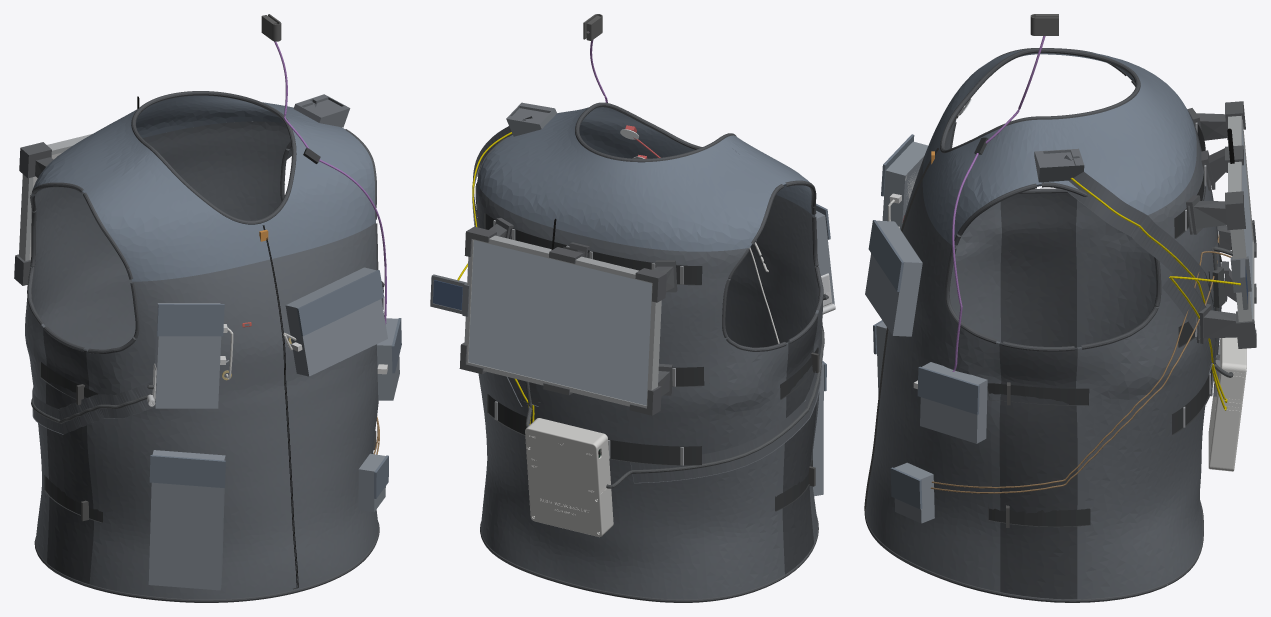
File: assembly.glb
3 views of the same model, side by side, from view 1: azimuth 30°, elevation 25°; view 2: azimuth 150°, elevation 25°; view 3: azimuth 270°, elevation 25° (orthographic). The views are drawn at different scales.
Parts seen in each view (by area): view 1: vest/vest_FRONT_R, vest/vest_FRONT_L, vest/vest_BACK_C, vest/vest_YOKE_FR, vest/vest_YOKE_FL, vest/vest_YOKE_B, vest/pocket_phone, vest/vest_SIDE_R, vest/pocket_C_board, vest/pocket_chest_pod, vest/vest_BACK_SR, vest/tunnel_J6_back_to_chest (+18 smaller); view 2: vest/vest_BACK_C, vest/vest_YOKE_B, panel_glass, vest/vest_BACK_SR, vest/vest_FRONT_R, back_pod_lid, vest/vest_SIDE_R, panel, vest/tunnel_J6_back_to_chest, vest/vest_YOKE_FL, vest/webbing_row_C, back_pod_base (+20 smaller); view 3: vest/vest_FRONT_L, vest/vest_BACK_SL, vest/vest_SIDE_L, vest/vest_YOKE_B, vest/vest_SIDE_R, vest/vest_BACK_C, vest/vest_BACK_SR, vest/vest_YOKE_FL, vest/vest_FRONT_R, vest/tunnel_ref2, vest/pocket_C_board, back_pod_base (+32 smaller).
Boxes of the visible parts, left/top/right/bottom form: vest/vest_FRONT_R: left=86, top=260, right=295, bottom=599; vest/vest_FRONT_L: left=268, top=222, right=383, bottom=589; vest/vest_BACK_C: left=36, top=121, right=268, bottom=349; vest/vest_YOKE_FR: left=84, top=147, right=268, bottom=281; vest/vest_YOKE_FL: left=260, top=116, right=375, bottom=259; vest/vest_YOKE_B: left=32, top=95, right=343, bottom=192; vest/pocket_phone: left=148, top=450, right=225, bottom=590; vest/vest_SIDE_R: left=43, top=327, right=93, bottom=584; vest/pocket_C_board: left=285, top=267, right=387, bottom=376; vest/pocket_chest_pod: left=154, top=303, right=221, bottom=408; vest/vest_BACK_SR: left=25, top=189, right=49, bottom=562; vest/tunnel_J6_back_to_chest: left=32, top=381, right=154, bottom=434; vest/vest_BACK_C: left=483, top=199, right=709, bottom=599; vest/vest_YOKE_B: left=477, top=109, right=783, bottom=251; panel_glass: left=468, top=240, right=651, bottom=405; vest/vest_BACK_SR: left=703, top=247, right=788, bottom=598; vest/vest_FRONT_R: left=725, top=195, right=822, bottom=542; back_pod_lid: left=525, top=427, right=606, bottom=537; vest/vest_SIDE_R: left=782, top=313, right=817, bottom=574; panel: left=464, top=218, right=661, bottom=407; vest/tunnel_J6_back_to_chest: left=630, top=322, right=823, bottom=483; vest/vest_YOKE_FL: left=554, top=107, right=694, bottom=158; vest/webbing_row_C: left=487, top=394, right=701, bottom=465; back_pod_base: left=527, top=418, right=613, bottom=535; vest/vest_FRONT_L: left=866, top=181, right=1001, bottom=591; vest/vest_BACK_SL: left=1076, top=206, right=1173, bottom=599; vest/vest_SIDE_L: left=999, top=342, right=1077, bottom=599; vest/vest_YOKE_B: left=1039, top=50, right=1196, bottom=215; vest/vest_SIDE_R: left=1000, top=193, right=1077, bottom=347; vest/vest_BACK_C: left=1159, top=127, right=1217, bottom=582; vest/vest_BACK_SR: left=1076, top=79, right=1156, bottom=347; vest/vest_YOKE_FL: left=922, top=119, right=1038, bottom=246; vest/vest_FRONT_R: left=866, top=121, right=1001, bottom=507; vest/tunnel_ref2: left=1064, top=155, right=1214, bottom=310; vest/pocket_C_board: left=865, top=220, right=922, bottom=336; back_pod_base: left=1208, top=337, right=1245, bottom=471.
Size of the model in its own units: 0.4313 by 0.6714 by 0.4372.
